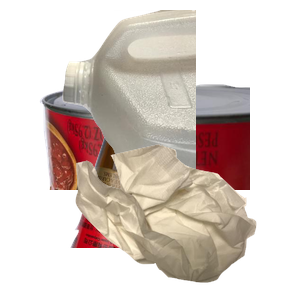glass: (68, 120, 255, 300)
metal: (37, 81, 277, 261)
plastic: (60, 10, 300, 190)
trash: (73, 142, 300, 300)
